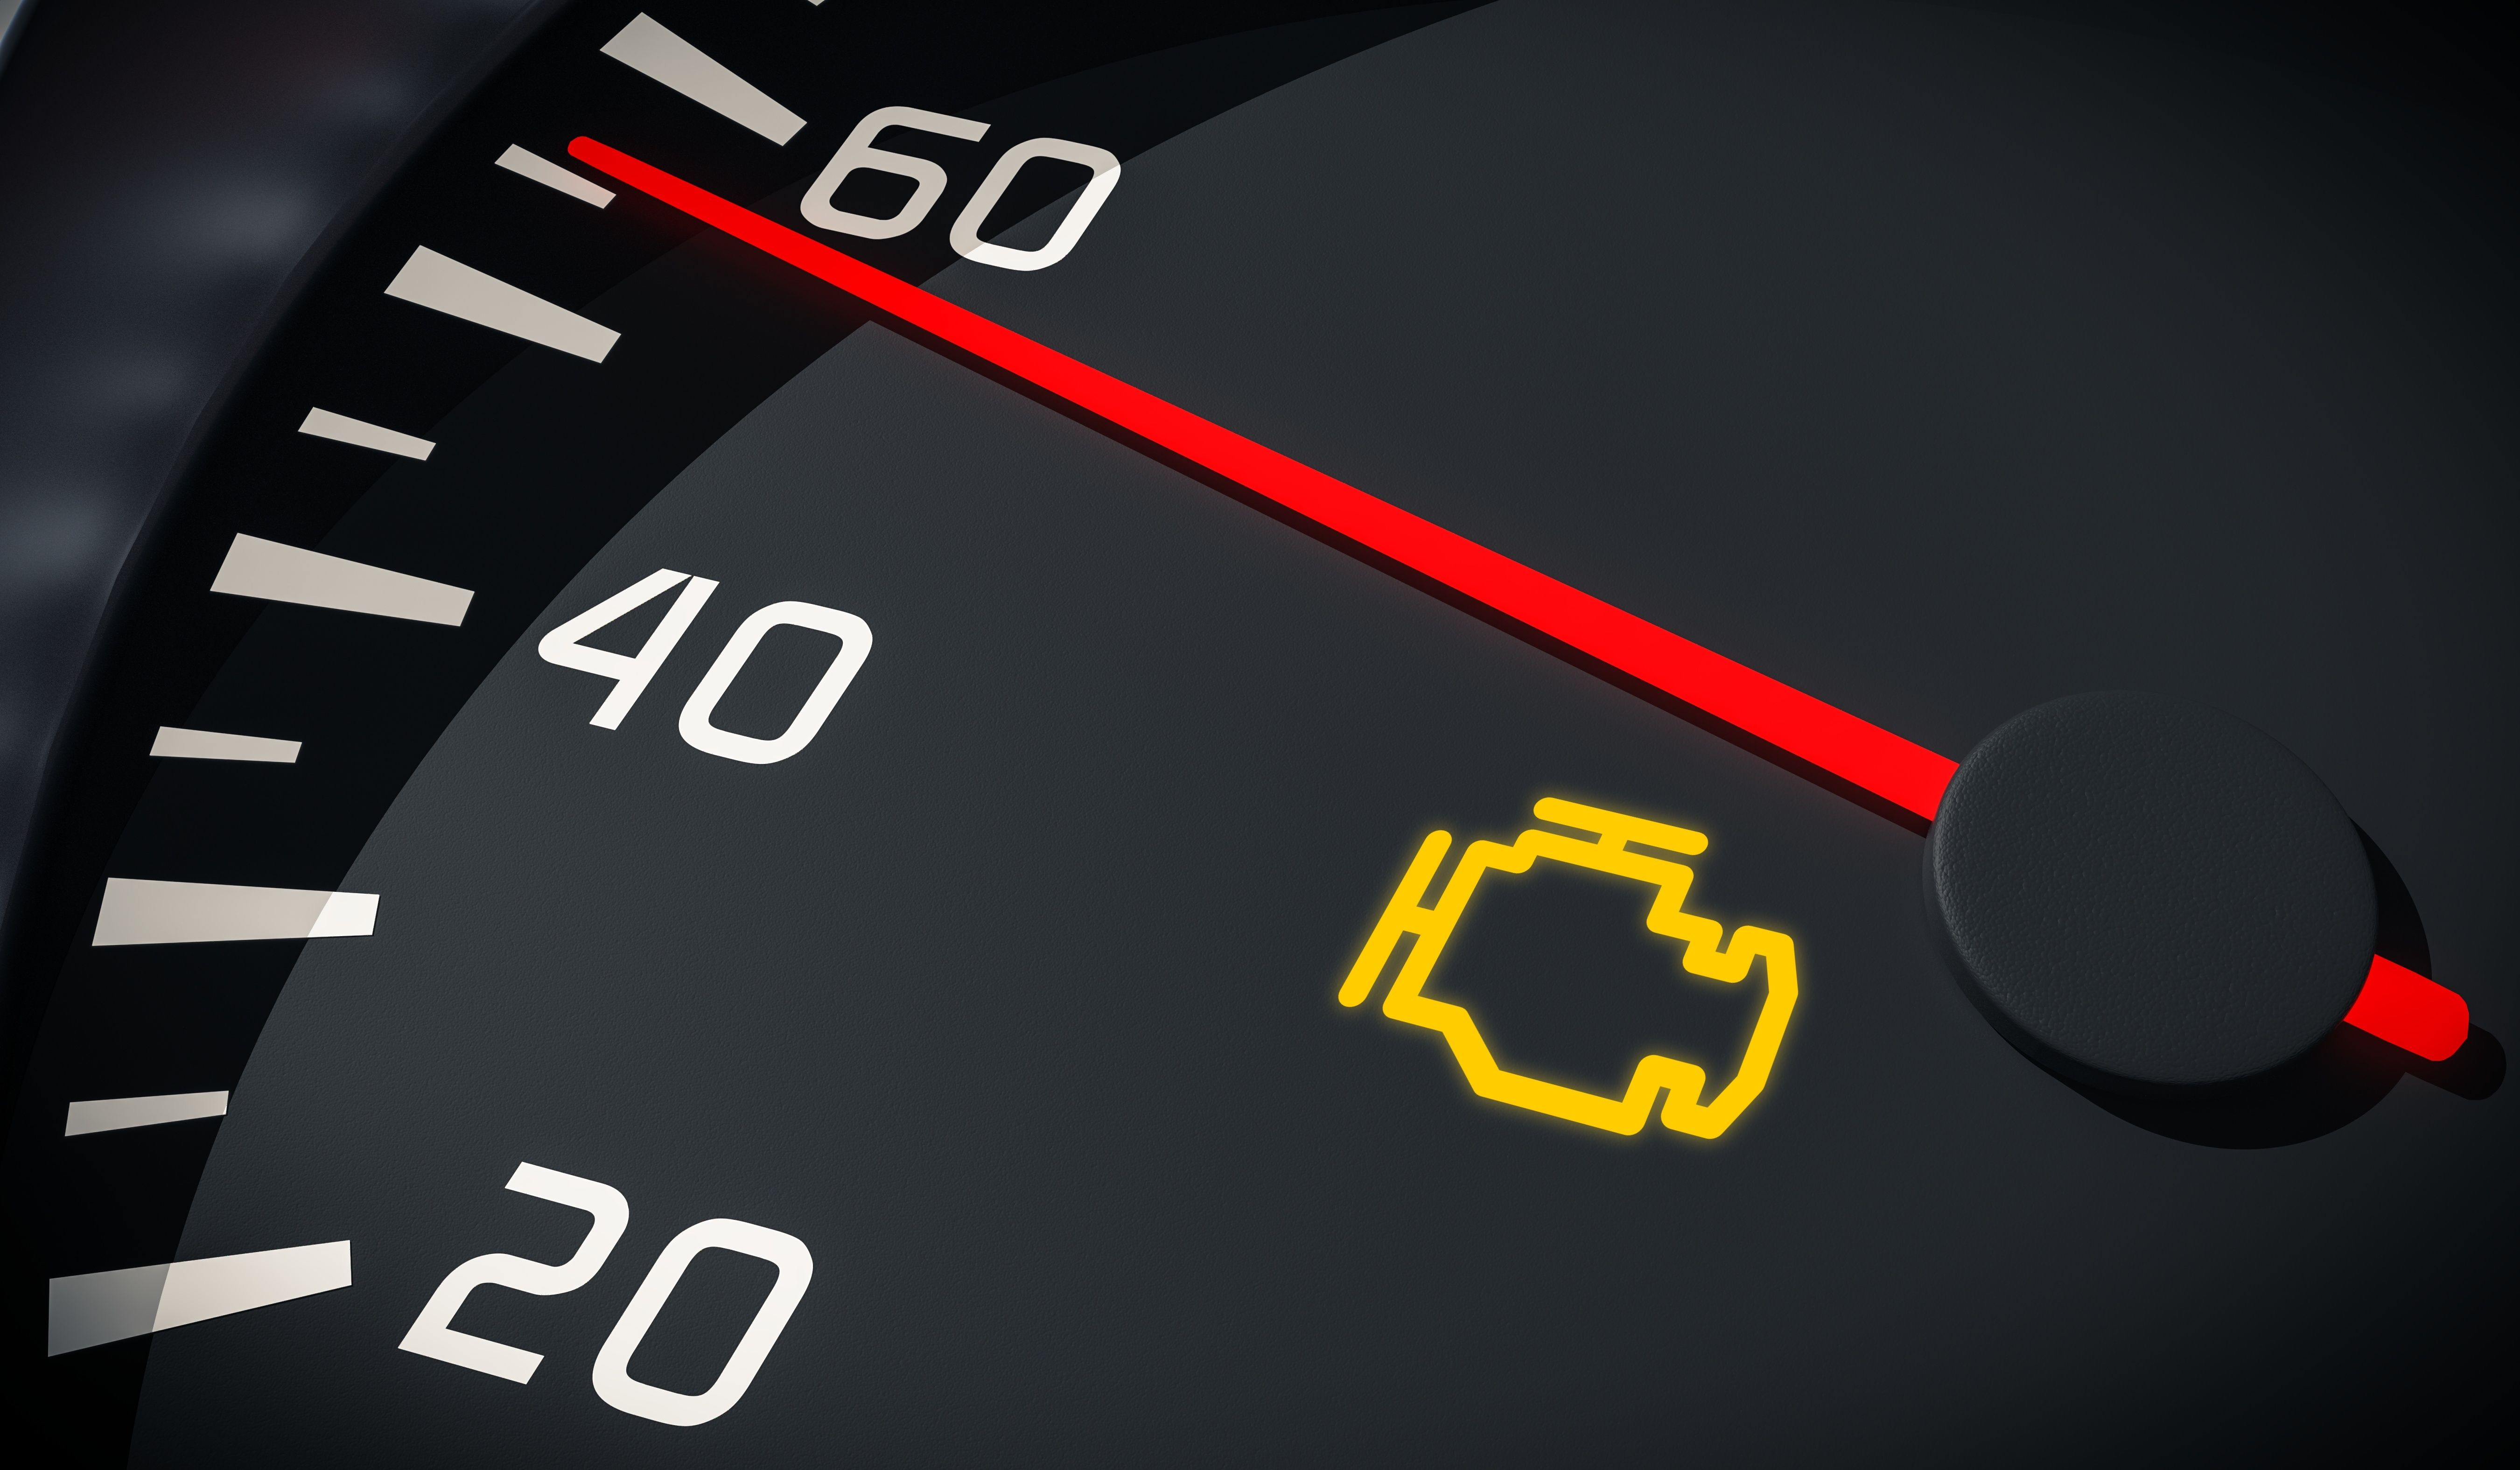Engine_emissions: (1309, 764, 1815, 1183)
